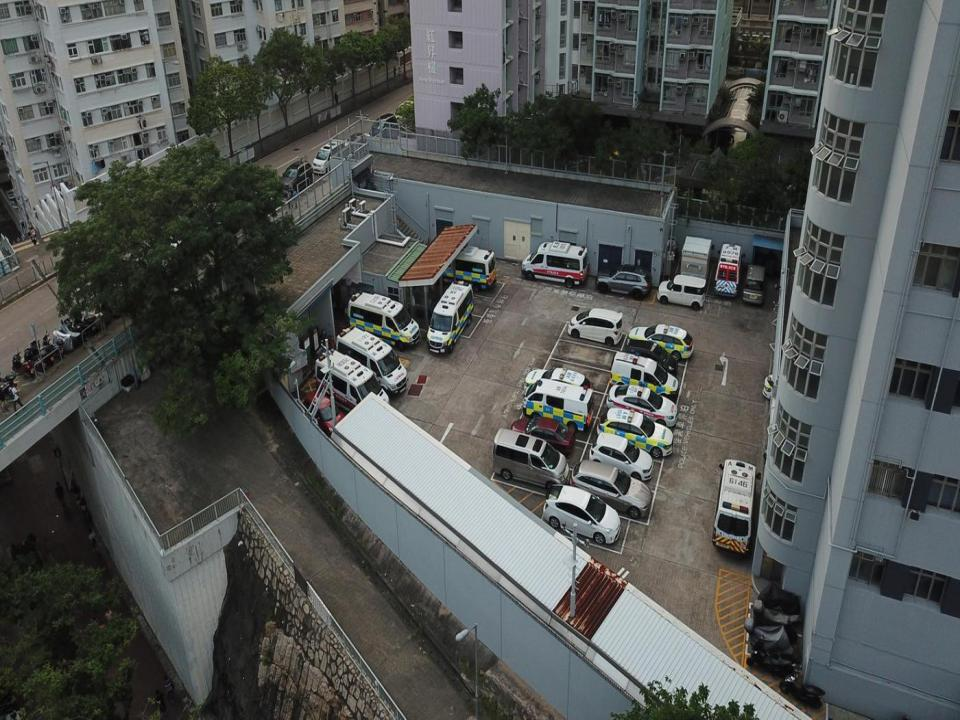car: (570, 459, 652, 520), (542, 483, 620, 546), (596, 406, 674, 457), (588, 432, 654, 482), (606, 383, 677, 428), (627, 323, 694, 361), (303, 389, 348, 437), (624, 338, 677, 377), (762, 366, 821, 400), (342, 132, 371, 162), (392, 99, 416, 128)
truck: (712, 458, 760, 557), (680, 234, 715, 290)
van: (314, 348, 390, 420), (334, 324, 408, 394), (492, 428, 570, 490), (348, 290, 420, 351), (522, 378, 592, 432), (427, 280, 475, 354), (608, 350, 678, 399), (520, 241, 588, 288), (431, 245, 496, 292), (596, 263, 652, 301), (568, 308, 622, 346), (657, 273, 706, 310), (714, 242, 745, 299), (274, 161, 314, 197), (312, 139, 346, 173), (743, 263, 765, 303), (369, 114, 398, 144)
